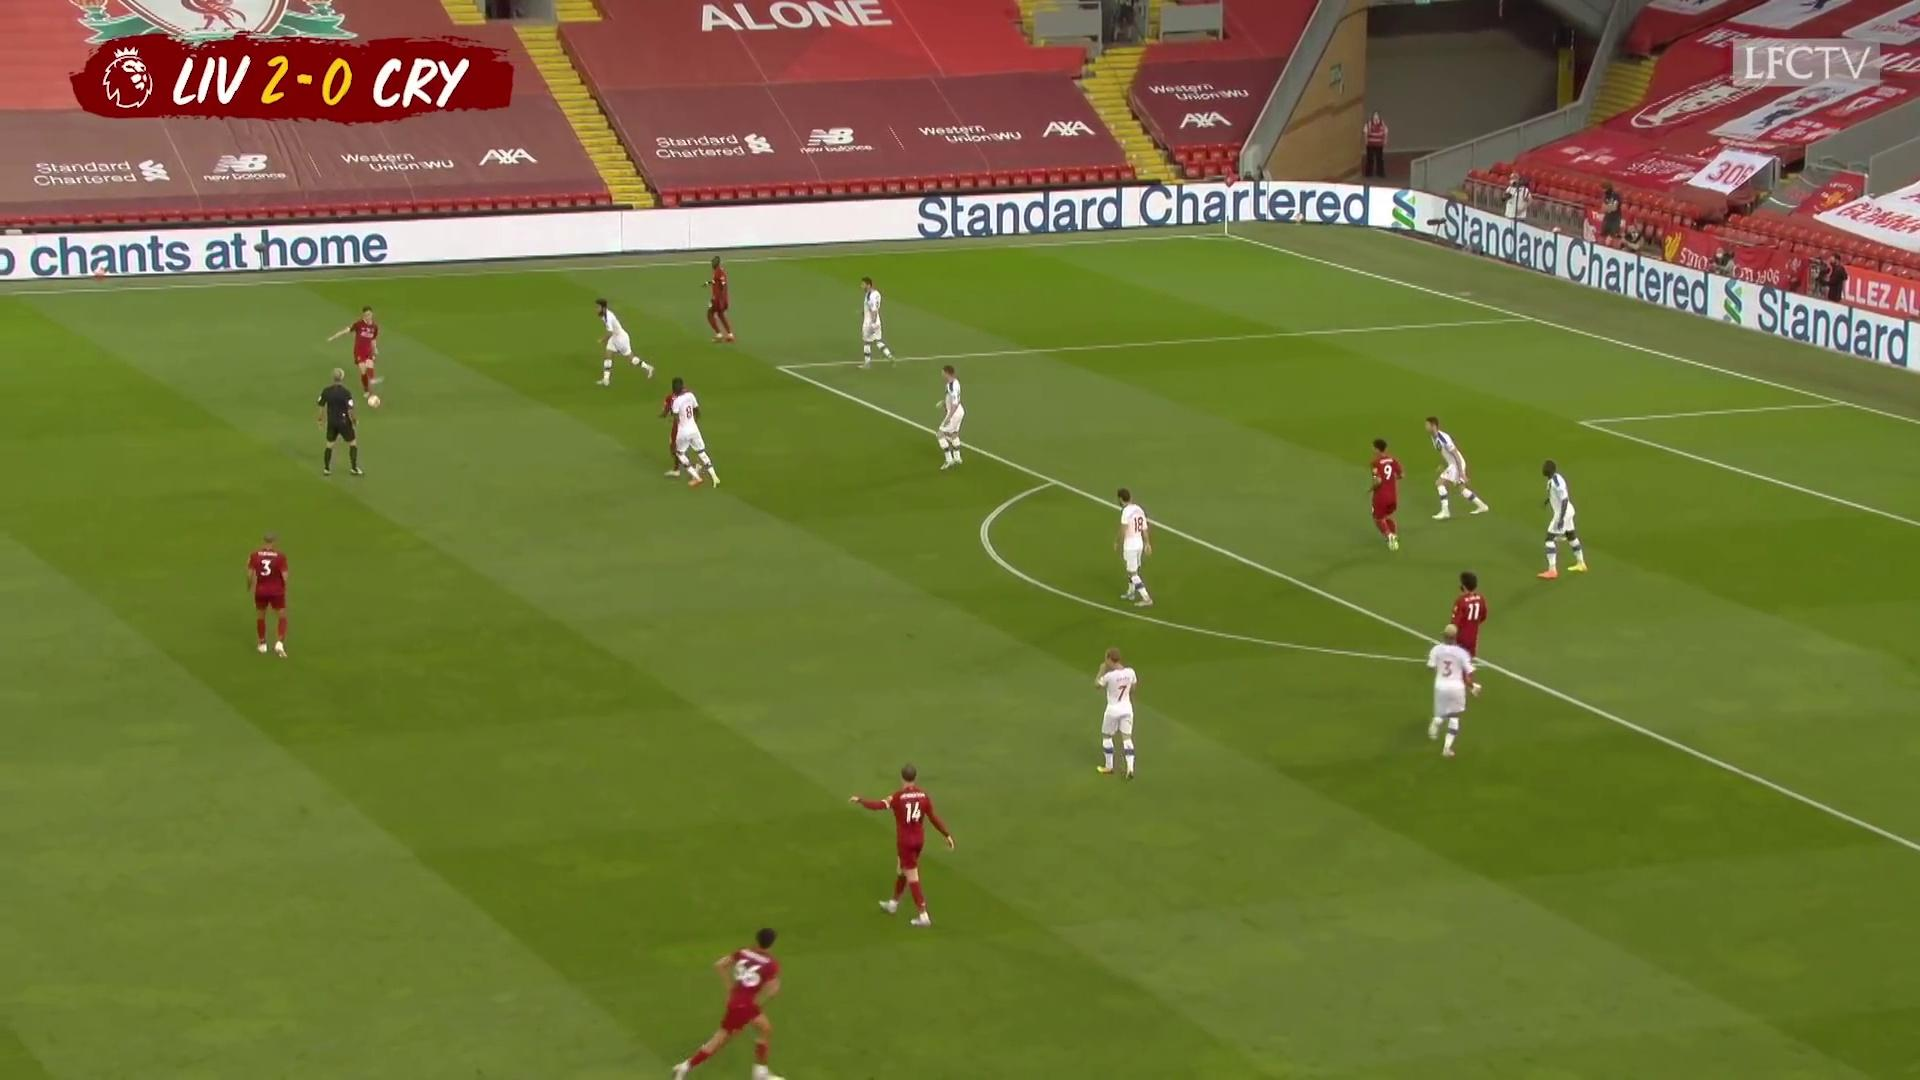ball: (358, 389, 389, 415)
player: (663, 918, 809, 1080), (845, 760, 962, 930), (1080, 643, 1153, 786), (1416, 620, 1487, 763), (1419, 407, 1497, 523), (1102, 482, 1166, 614), (1531, 453, 1590, 584), (578, 295, 660, 389), (242, 528, 298, 664), (671, 368, 726, 498), (323, 301, 390, 402), (1360, 430, 1409, 558), (1441, 568, 1488, 697), (851, 263, 902, 381), (930, 358, 977, 479), (692, 250, 741, 347), (657, 373, 695, 479)
referee: (317, 362, 366, 478)
